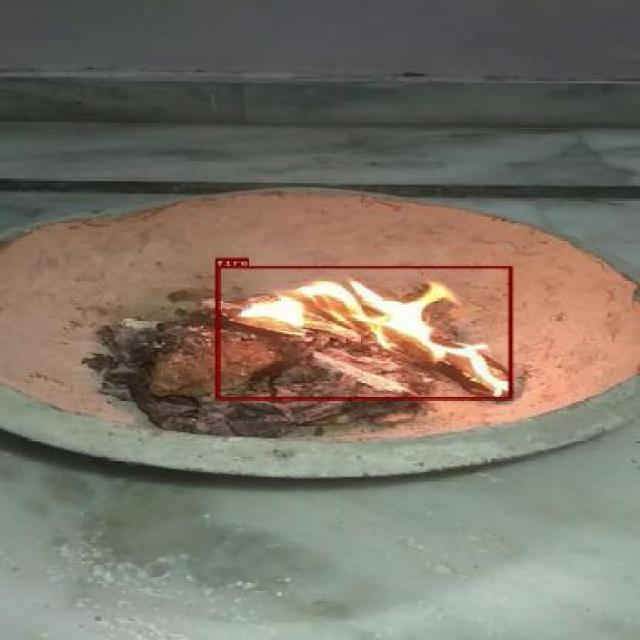Fire: (214, 266, 512, 399)
